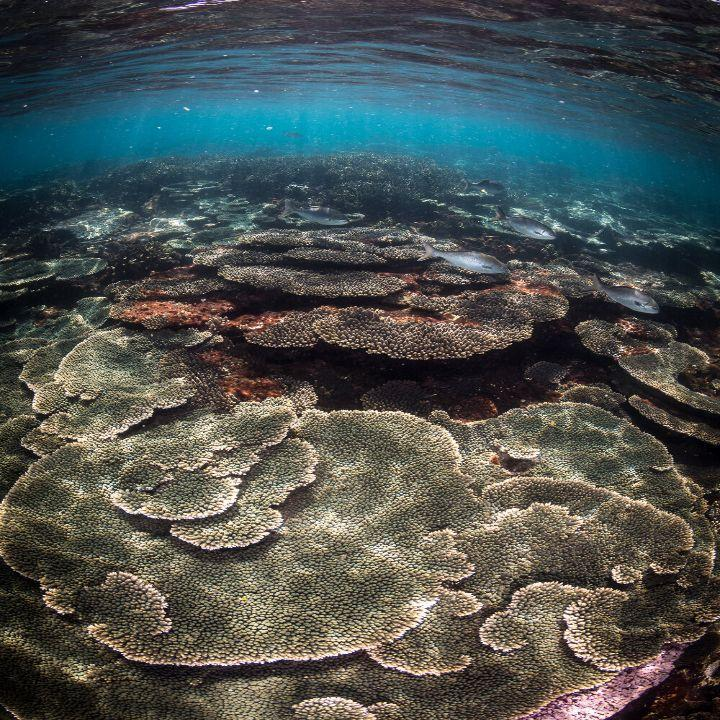Healthy Coral: (9, 176, 710, 698)
